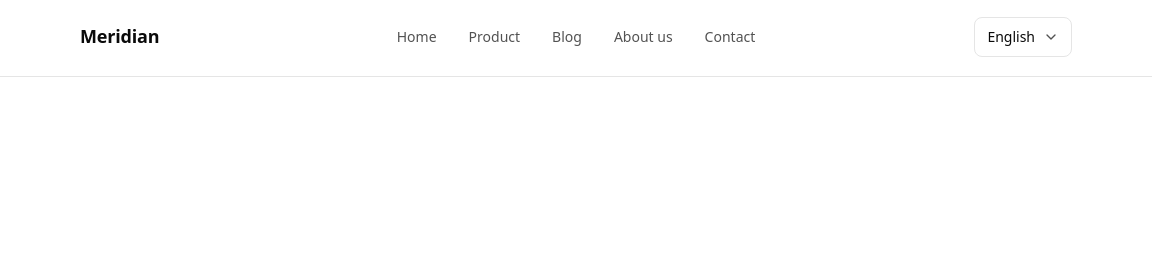
Scenario: Navbar › should_offer_all_four_languages
Click the button with aria-label "Language" at (1023, 36), box [974,16,1072,56]
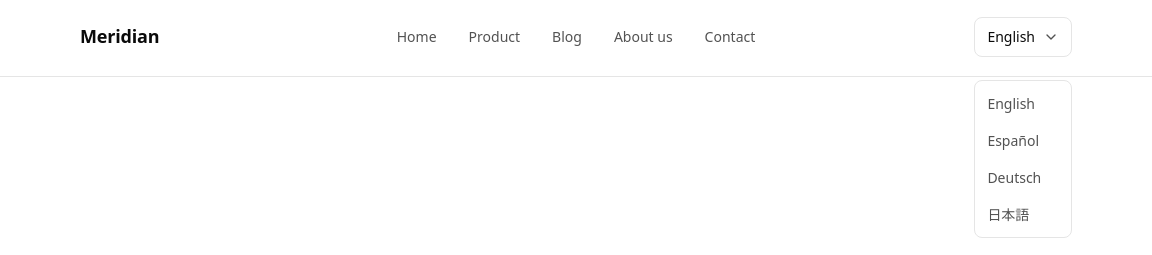
Now the buttons read "English", "Español", "Deutsch", "日本語", in this order, box [975,85,1071,122]; [975,122,1071,159]; [975,159,1071,196]; [975,196,1071,233]
